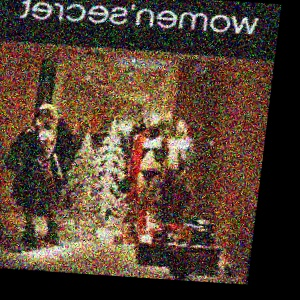women_secret: (260, 4, 279, 8)
